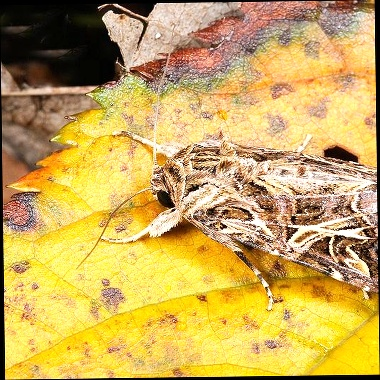Spodoptera litura: (74, 21, 377, 313)
